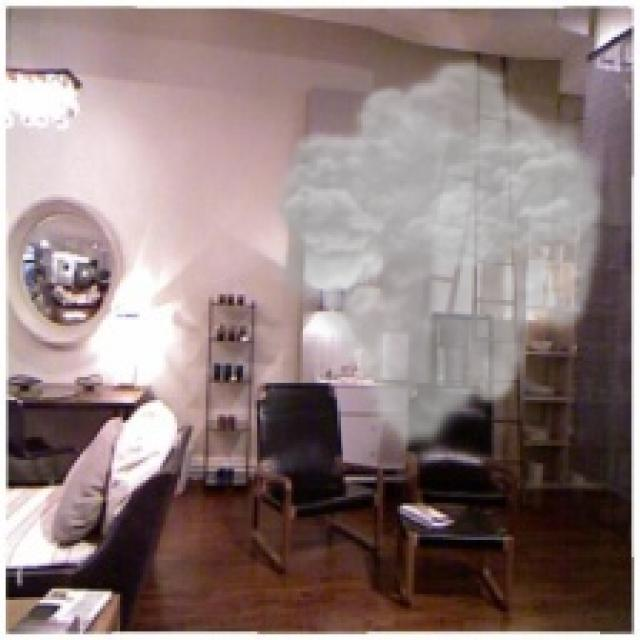smoke: (266, 54, 614, 454)
